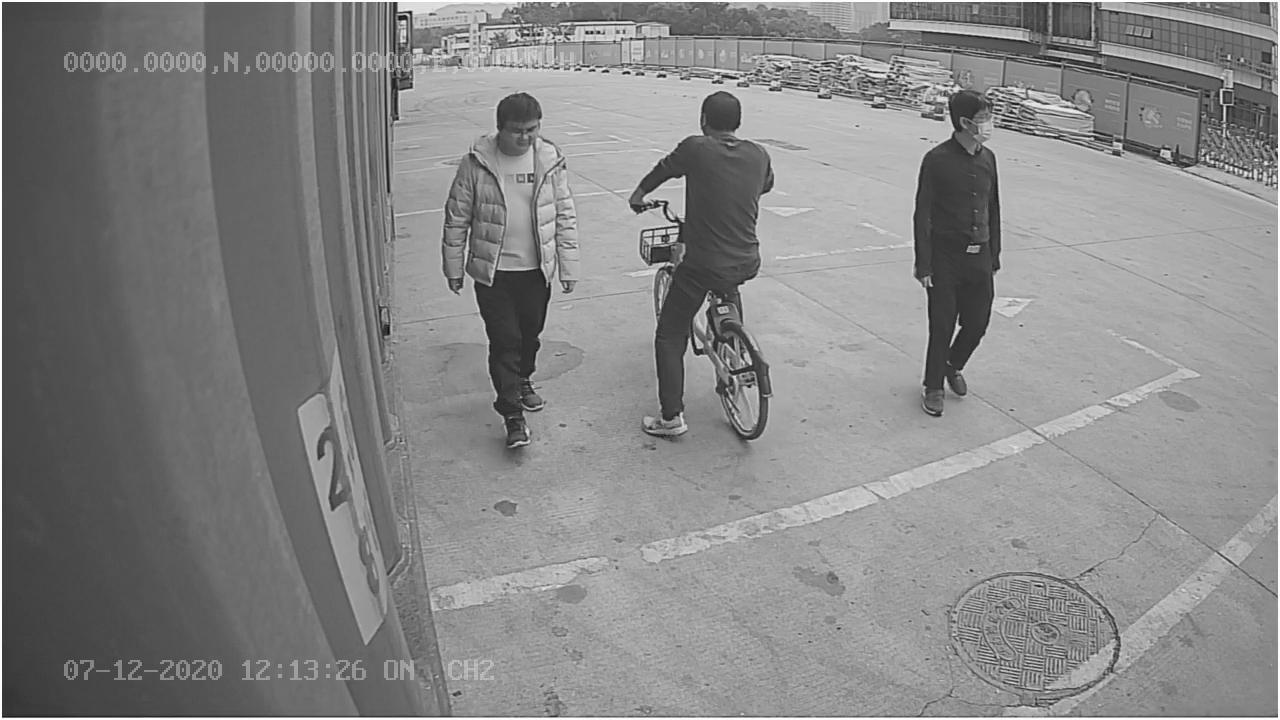person: (443, 89, 579, 448), (913, 86, 1006, 420)
